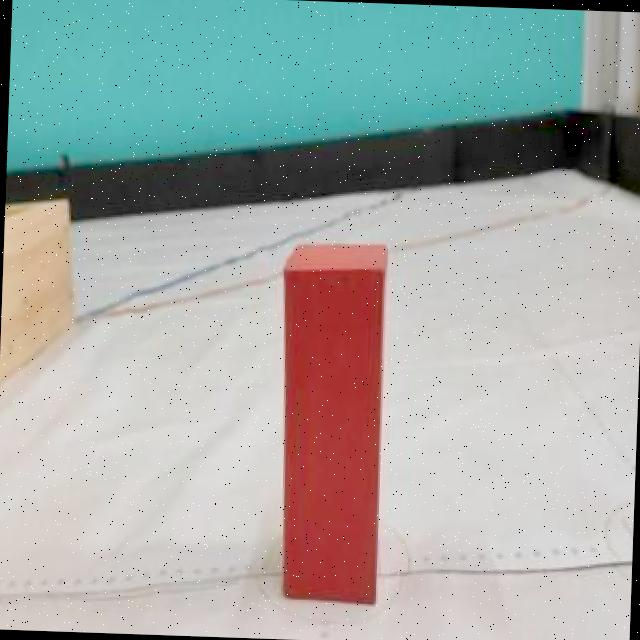redbox: (269, 236, 389, 599)
